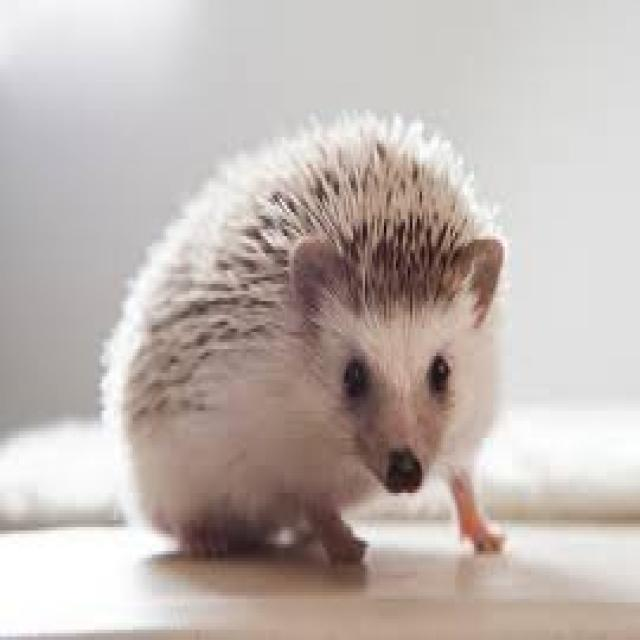Hedgehog: (102, 101, 518, 584)
